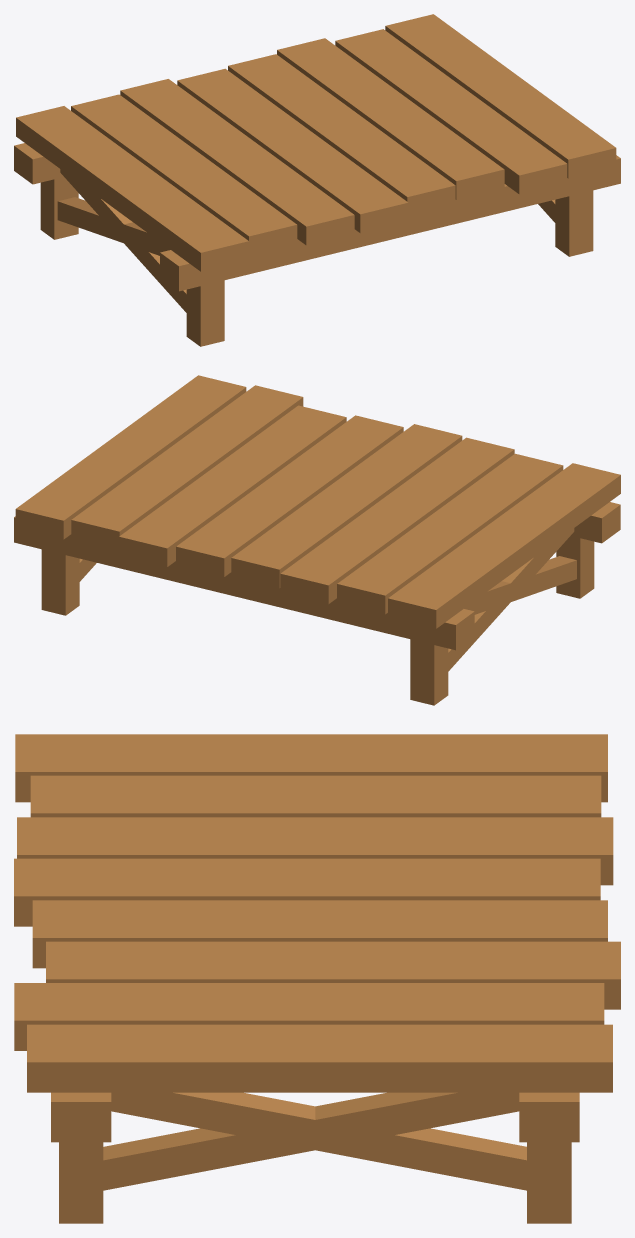
File: Panda_Bed.fbx
3 renders of one model, top to bottom at view 1: azimuth 30°, elevation 25°; view 2: azimuth 150°, elevation 25°; view 3: azimuth 270°, elevation 25°, orthographic. The views are drawn at different scales.
Visible parts, largest first — view 1: Bed; view 2: Bed; view 3: Bed.
Part boxes in pixels (x1,y1,x2,y2): Bed: (14,14,620,346); Bed: (14,375,620,705); Bed: (14,734,620,1223).
Bounding box in the file's own units: 367 × 85 × 272.
